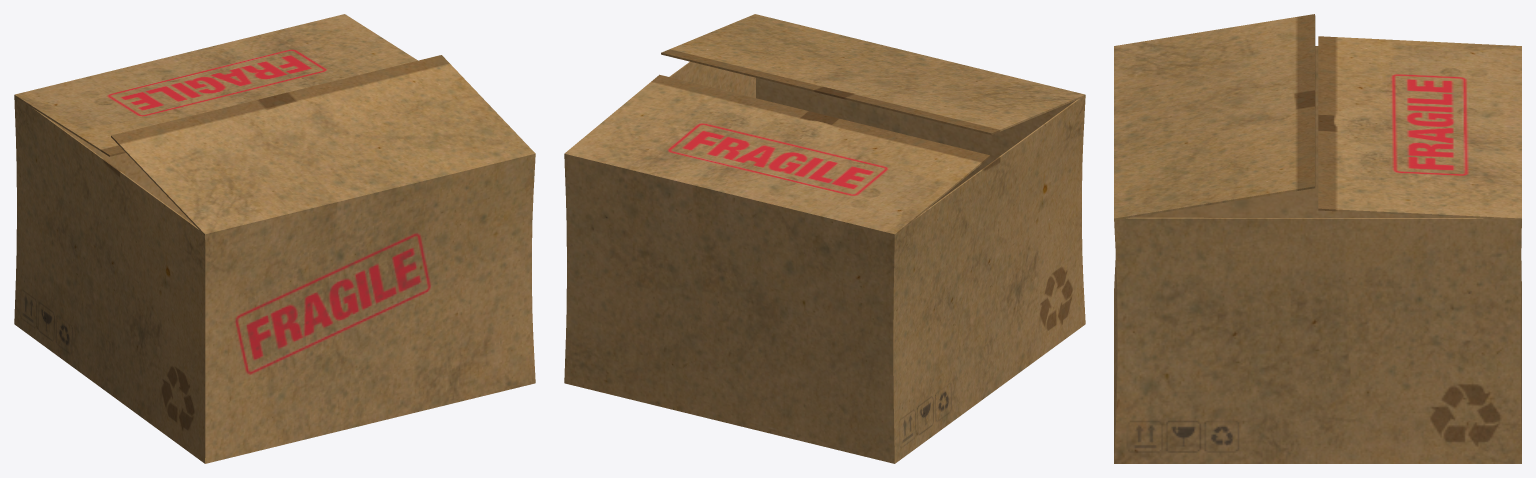
Rendered from Caja.fbx.
The picture shows the model from 3 angles, left to right: view 1: azimuth 30°, elevation 25°; view 2: azimuth 150°, elevation 25°; view 3: azimuth 270°, elevation 25°; orthographic projection. The views are drawn at different scales.
Parts seen in each view (by area): view 1: Cube; view 2: Cube; view 3: Cube.
Boxes of the visible parts, x1=… form: Cube: x1=14, y1=14, x2=535, y2=463; Cube: x1=564, y1=14, x2=1085, y2=463; Cube: x1=1114, y1=14, x2=1521, y2=463.
Bounding box in the file's own units: 65.1 × 48.87 × 65.1.
1 material, 1 textured.
